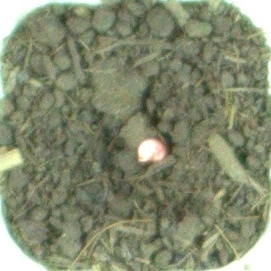chilli seed: (135, 137, 170, 165)
